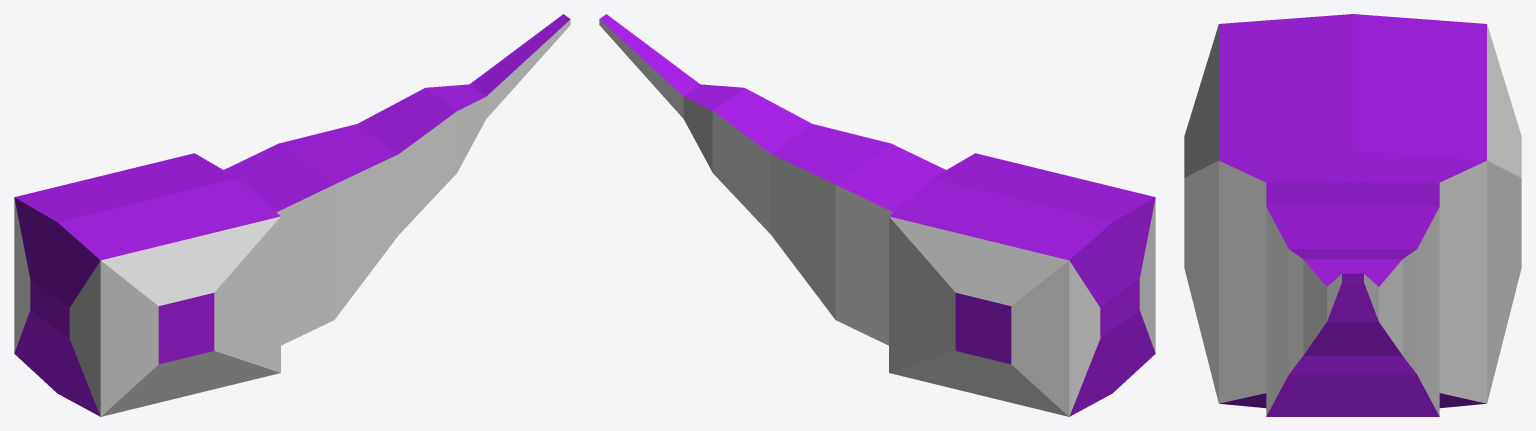
File: DragonTail.fbx
3 views of the same model, side by side, from view 1: azimuth 30°, elevation 25°; view 2: azimuth 150°, elevation 25°; view 3: azimuth 270°, elevation 25° (orthographic). The views are drawn at different scales.
Parts seen in each view (by area): view 1: Cube; view 2: Cube; view 3: Cube.
Part boxes in pixels (x1,y1,x2,y2): Cube: (14,14,570,416); Cube: (599,14,1155,416); Cube: (1184,14,1521,416).
Size of the model in its own units: 691 by 323 by 251.
